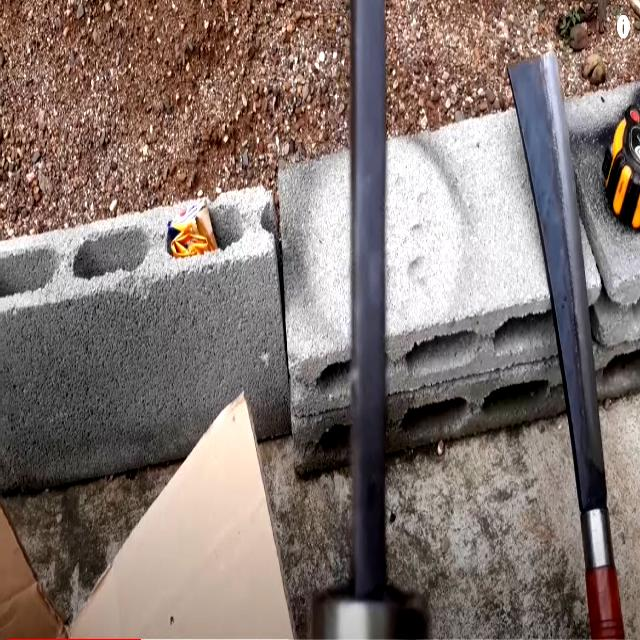eto: (507, 52, 623, 640)
